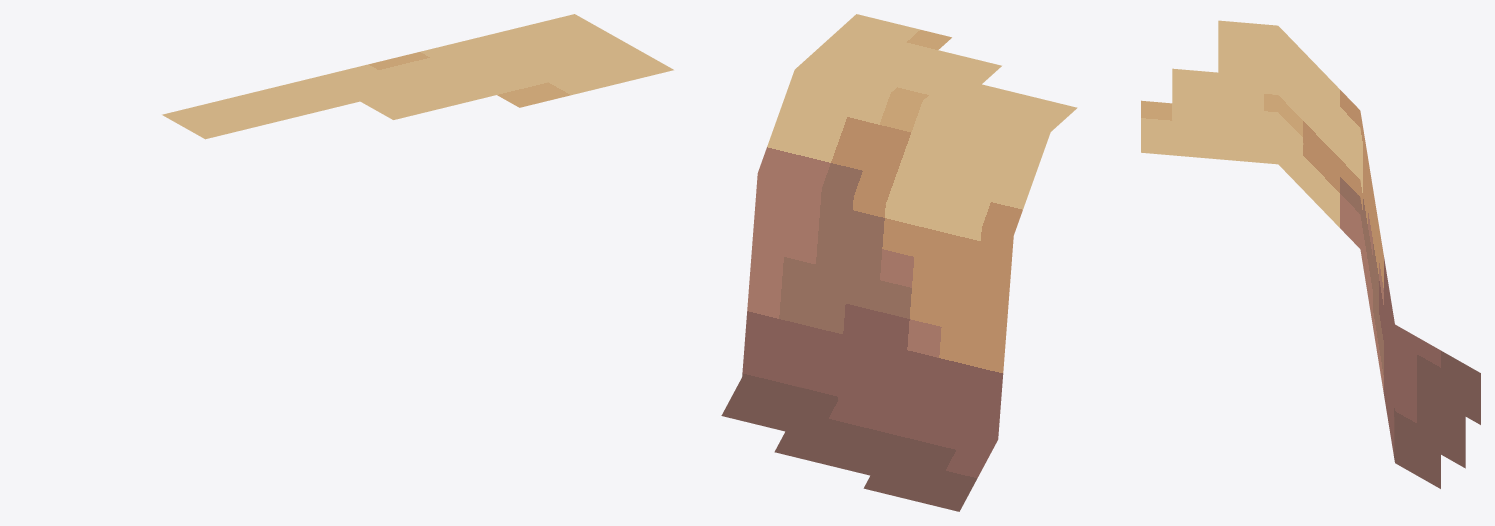
3 renders of one model, left to right at view 1: azimuth 30°, elevation 25°; view 2: azimuth 150°, elevation 25°; view 3: azimuth 270°, elevation 25°, orthographic. The views are drawn at different scales.
Size of the model in its own units: 0.5 by 0.6035 by 0.5176.
Materials: 1 (1 with a texture image).
